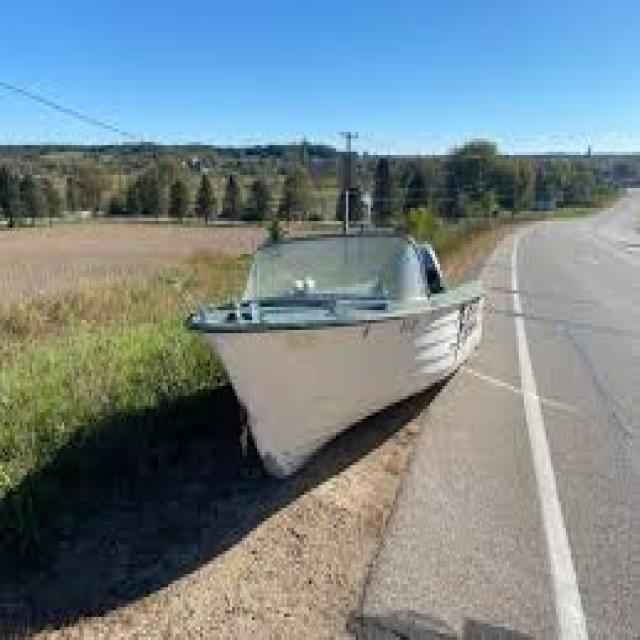ship2: (185, 183, 487, 480)
